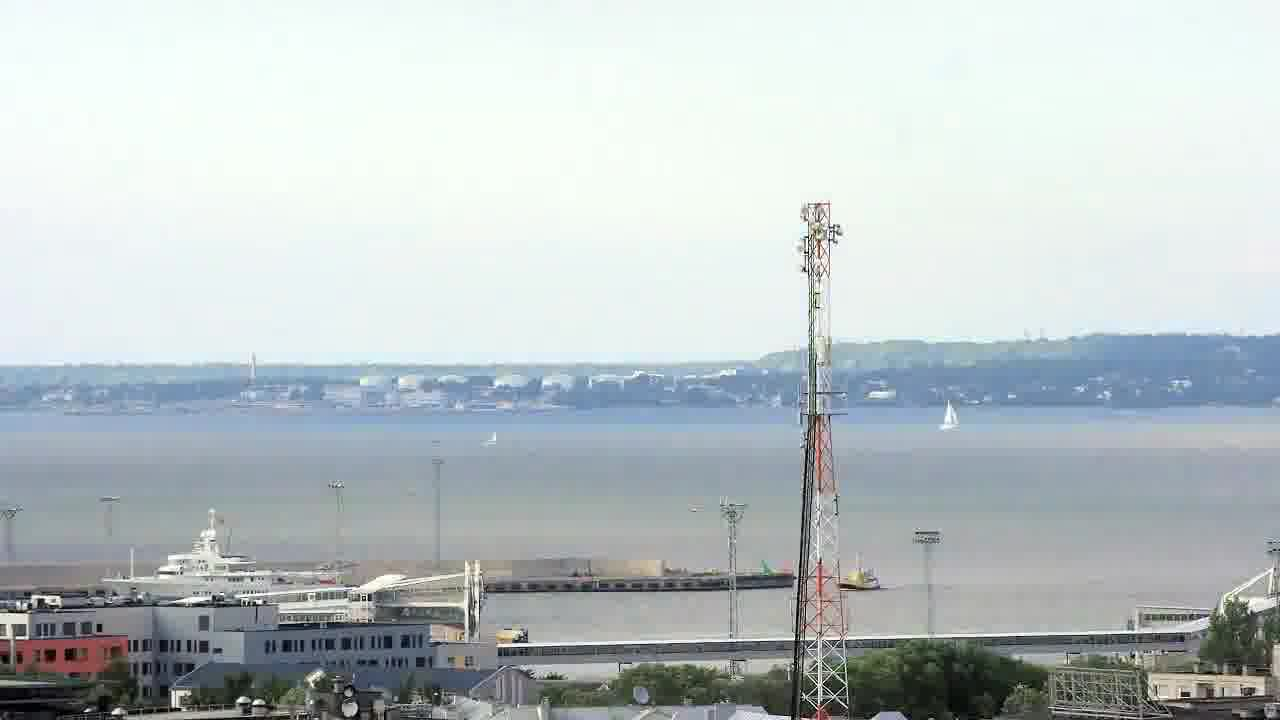type-0: (828, 556, 892, 599)
type-2: (919, 389, 977, 440)
type-3: (88, 507, 346, 605)
